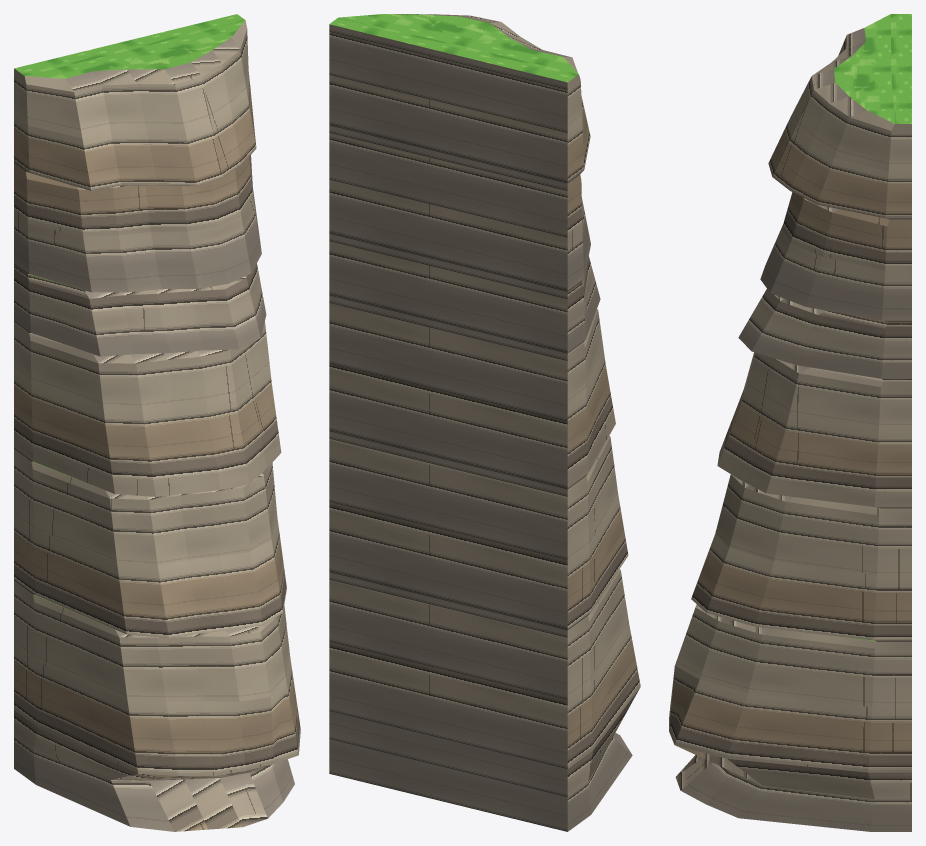
Rendered from p_bi_cliff_c.glb.
3 views of the same model, side by side, from view 1: azimuth 30°, elevation 25°; view 2: azimuth 150°, elevation 25°; view 3: azimuth 270°, elevation 25° (orthographic). The views are drawn at different scales.
Parts seen in each view (by area): view 1: p_bi_cliff_c_lod0; view 2: p_bi_cliff_c_lod0; view 3: p_bi_cliff_c_lod0.
Part boxes in pixels (x1=…): p_bi_cliff_c_lod0: x1=14, y1=14, x2=300, y2=831; p_bi_cliff_c_lod0: x1=329, y1=14, x2=640, y2=831; p_bi_cliff_c_lod0: x1=669, y1=14, x2=911, y2=831.
Size of what is drawn, in the model's own units: 6 by 18.01 by 5.6.
Materials: 1 (1 with a texture image).
